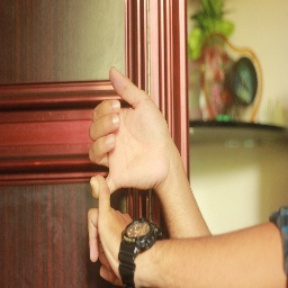S: (77, 63, 179, 287)
